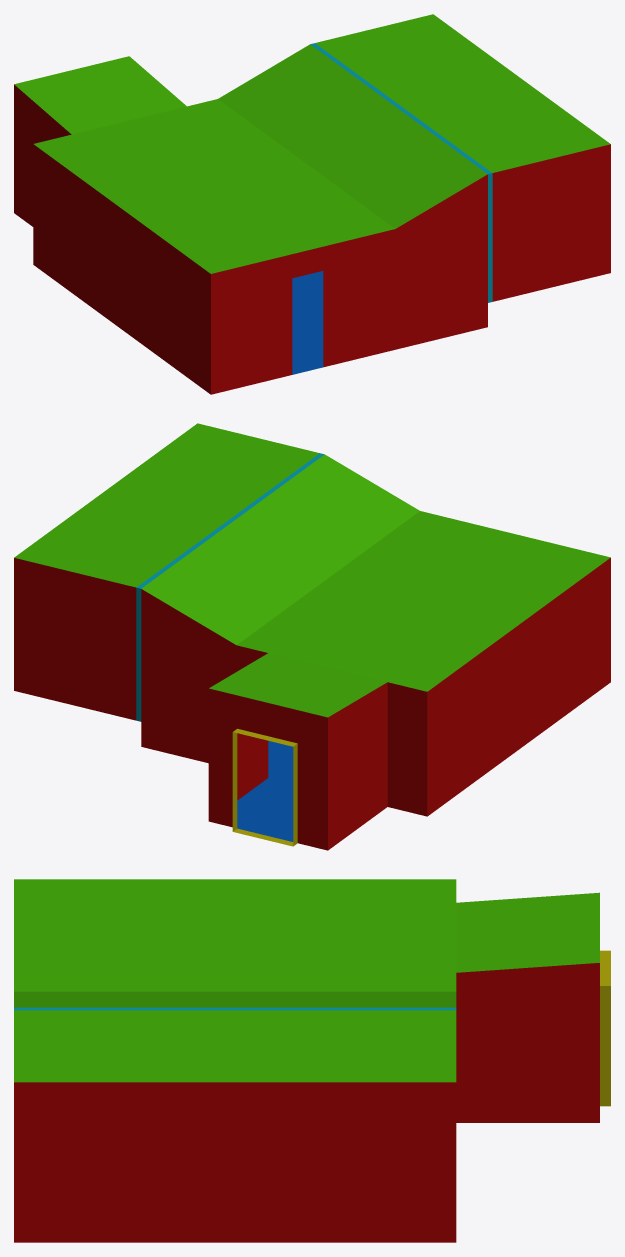
File: fbx_Room_v3.2.fbx
The picture shows the model from 3 angles, top to bottom: view 1: azimuth 30°, elevation 25°; view 2: azimuth 150°, elevation 25°; view 3: azimuth 270°, elevation 25°; orthographic projection. The views are drawn at different scales.
Parts seen in each view (by area): view 1: polySurface2826; view 2: polySurface2826; view 3: polySurface2826.
Boxes of the visible parts, x1,y1,x2,y2 form: polySurface2826: (14, 14, 610, 394); polySurface2826: (14, 423, 610, 850); polySurface2826: (14, 879, 610, 1242).
Size of the model in its own units: 1300 by 475 by 1350.
